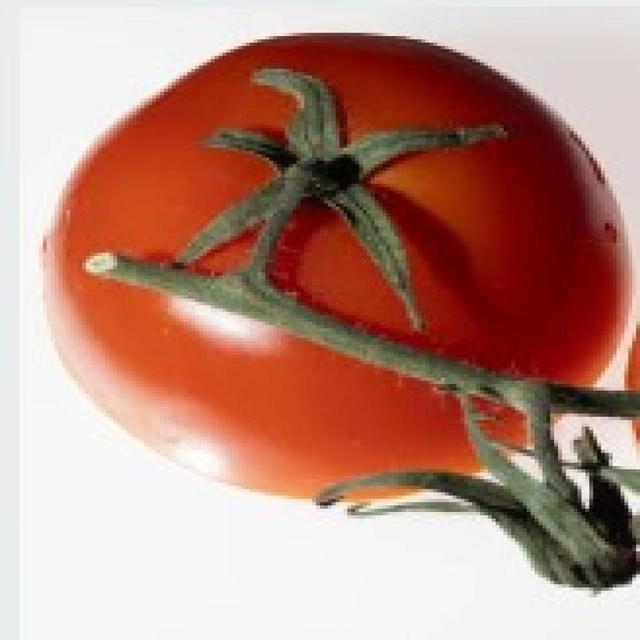Healthy Fruit: (36, 16, 427, 335)
